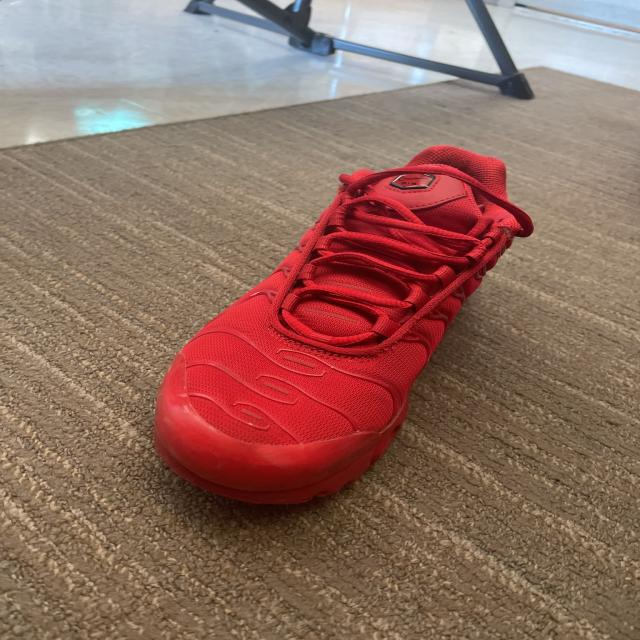shoe: (150, 142, 532, 508)
